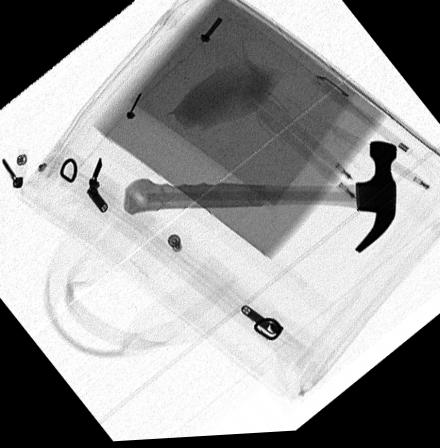Hammer: (123, 144, 397, 259)
